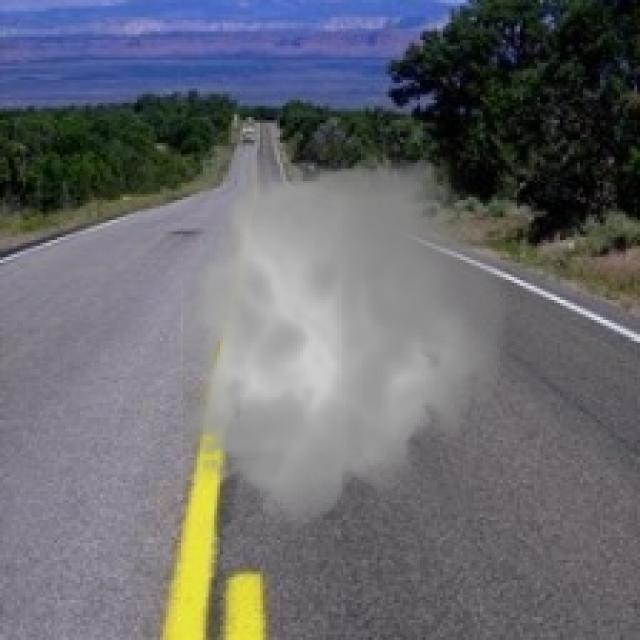Smoke: (165, 137, 518, 540)
